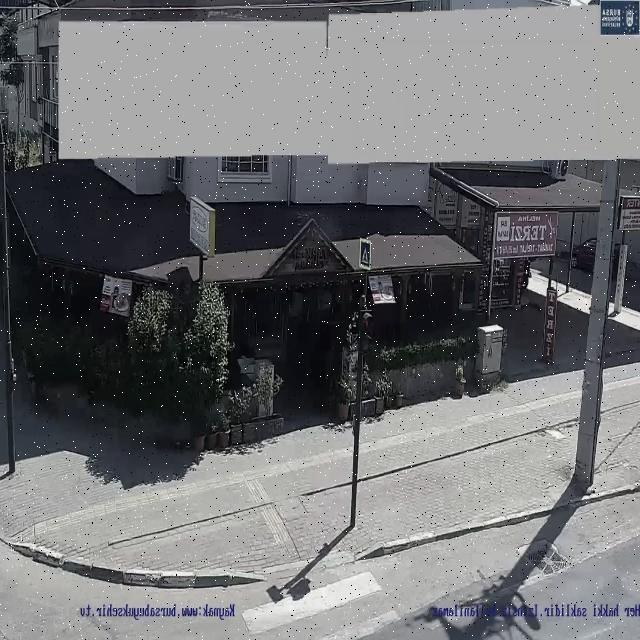Car: (563, 230, 630, 279)
